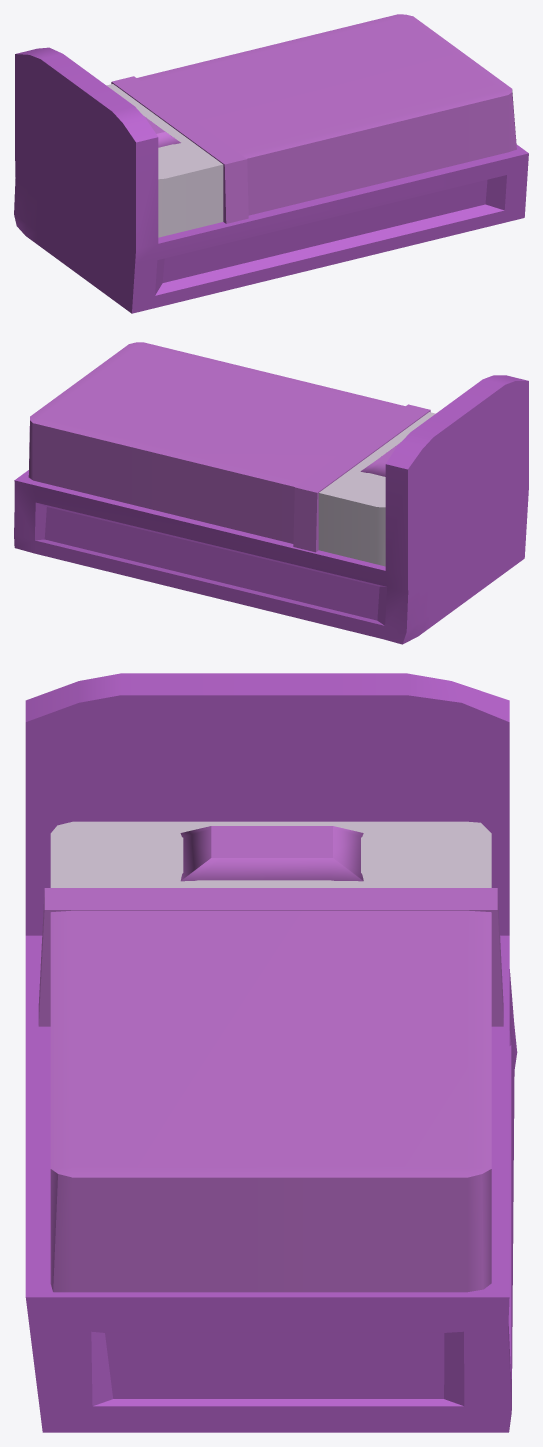
Rendered from SmallBedColor2.fbx.
3 renders of one model, top to bottom at view 1: azimuth 30°, elevation 25°; view 2: azimuth 150°, elevation 25°; view 3: azimuth 270°, elevation 25°, orthographic. The views are drawn at different scales.
Visible parts, largest first — view 1: pCube32, pCube34; view 2: pCube32, pCube34, pCube33; view 3: pCube34, pCube32, pCube33.
Part boxes in pixels (x1,y1,x2,y2): pCube32: (14, 47, 528, 313); pCube34: (106, 14, 516, 237); pCube32: (14, 375, 528, 644); pCube34: (28, 342, 435, 566); pCube33: (360, 443, 399, 476); pCube34: (38, 821, 503, 1292); pCube32: (25, 673, 517, 1432); pCube33: (180, 826, 363, 881).
Size of the model in its own units: 2.06 by 0.9394 by 1.11.
